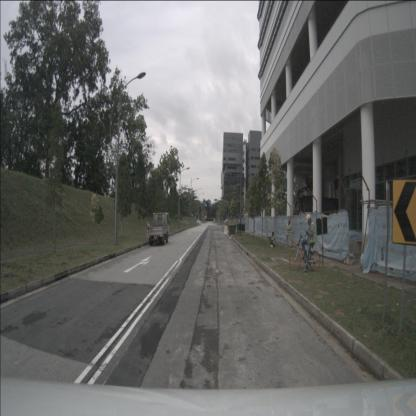movable_object-barrier: (223, 225, 228, 236)
movable_object-trafficcone: (234, 229, 237, 237)
vehicle-bicycle: (289, 214, 320, 272)
vehicle-truck: (147, 212, 169, 245)
